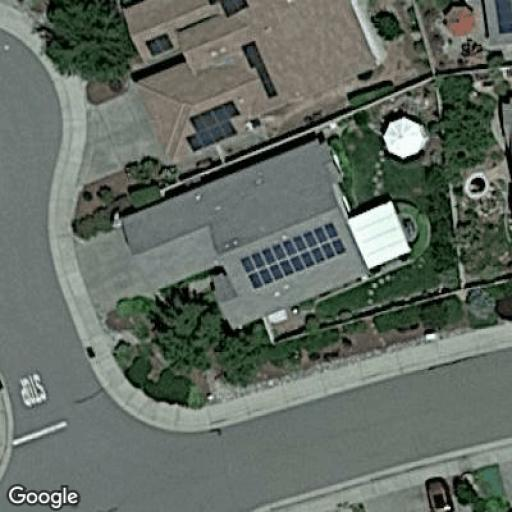solar-panel: (238, 219, 348, 289), (178, 98, 246, 151), (240, 34, 282, 106), (206, 0, 253, 19), (144, 33, 174, 58), (495, 0, 512, 32)
